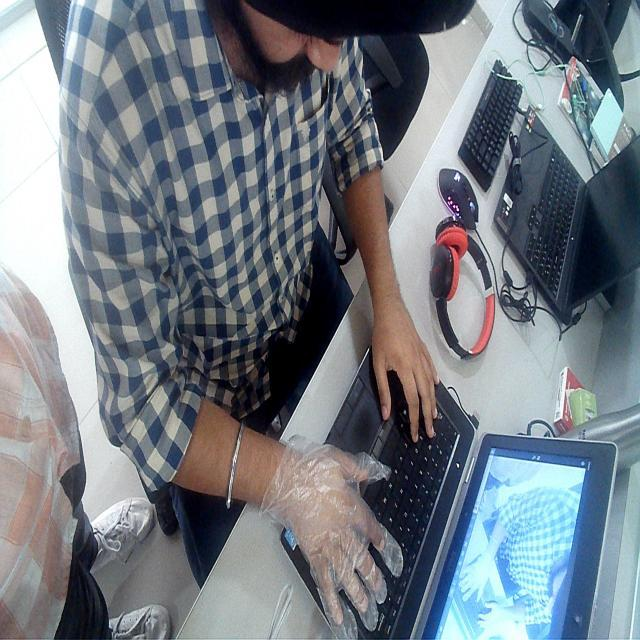with_gloves: (265, 439, 429, 630)
without_gloves: (369, 294, 476, 430)
